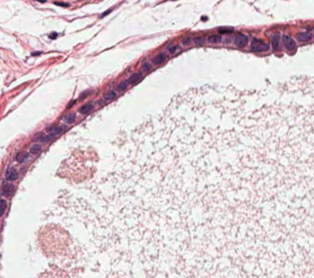nucleus: (37, 222, 73, 258), (251, 39, 268, 51), (234, 34, 247, 46), (5, 167, 17, 180), (2, 183, 13, 195), (79, 103, 92, 113), (153, 53, 165, 63), (128, 73, 140, 83), (63, 113, 75, 123), (47, 126, 62, 134), (36, 134, 53, 141), (272, 33, 279, 48), (117, 81, 128, 90), (104, 90, 115, 99), (168, 45, 179, 53), (208, 35, 220, 42), (30, 144, 40, 152), (1, 199, 6, 214), (142, 62, 150, 70), (55, 2, 67, 6), (183, 38, 190, 44)
